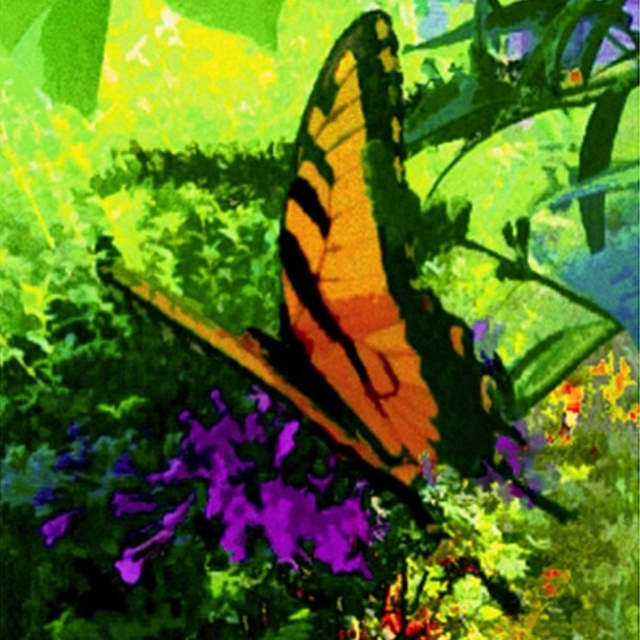Butterfly: (101, 9, 578, 615)
